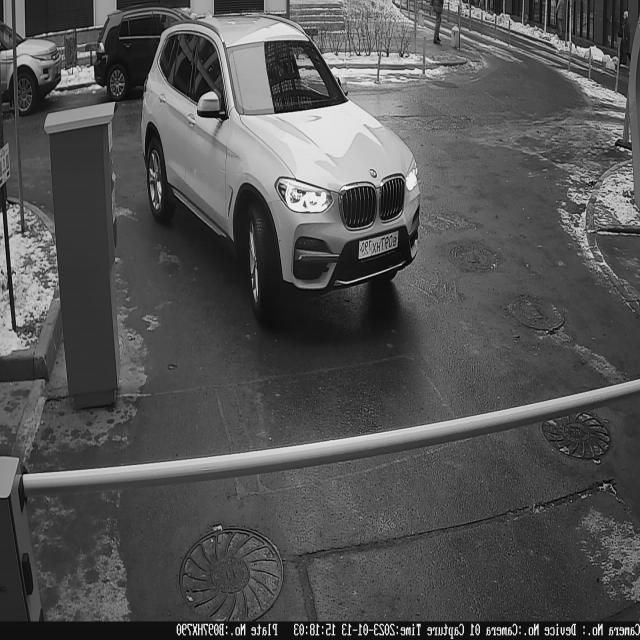car-plate-numbers: (358, 226, 405, 261)
